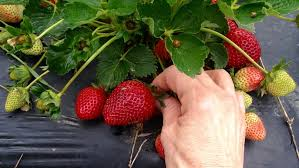ripe: (104, 82, 160, 135), (73, 83, 106, 128), (221, 26, 266, 55)
unripe: (230, 60, 263, 92), (236, 112, 269, 144), (266, 68, 298, 99), (5, 85, 31, 118), (5, 63, 35, 80), (228, 89, 253, 108)
